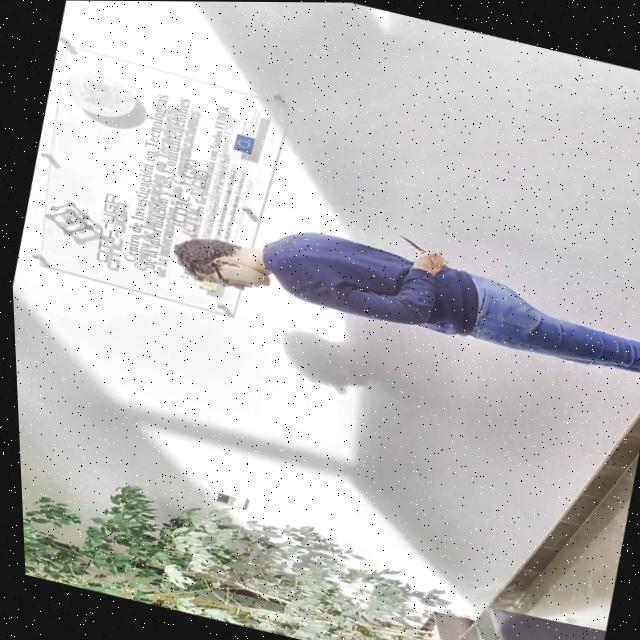knife: (393, 232, 428, 253)
